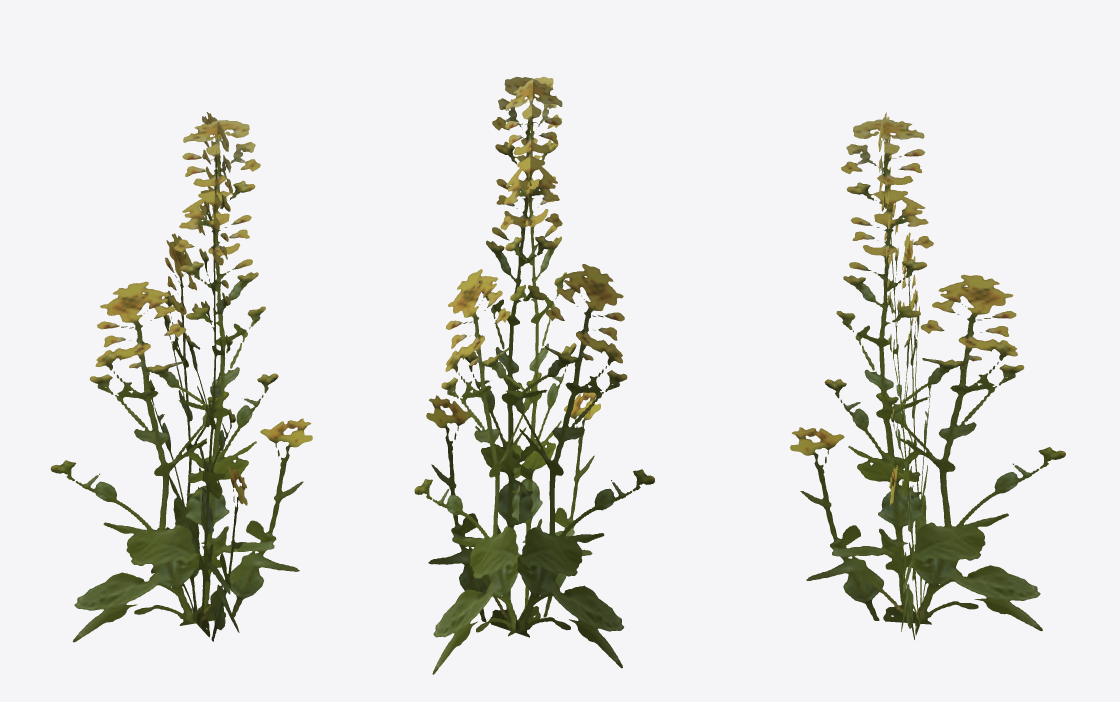
Rendered from Scene_Grass_YouCaiHua_1.FBX.
3 renders of one model, left to right at view 1: azimuth 30°, elevation 25°; view 2: azimuth 150°, elevation 25°; view 3: azimuth 270°, elevation 25°, orthographic. The views are drawn at different scales.
Parts seen in each view (by area): view 1: Scene_Grass_YouCaiHua_1; view 2: Scene_Grass_YouCaiHua_1; view 3: Scene_Grass_YouCaiHua_1.
Part boxes in pixels (x1,y1,x2,y2): Scene_Grass_YouCaiHua_1: [50, 112, 312, 642]; Scene_Grass_YouCaiHua_1: [414, 76, 654, 674]; Scene_Grass_YouCaiHua_1: [790, 112, 1065, 639].
Size of the model in its own units: 62.01 by 98.77 by 62.83.
